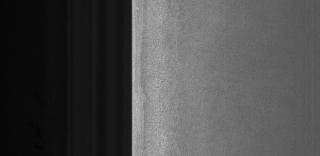silk spot: (160, 18, 196, 134)
